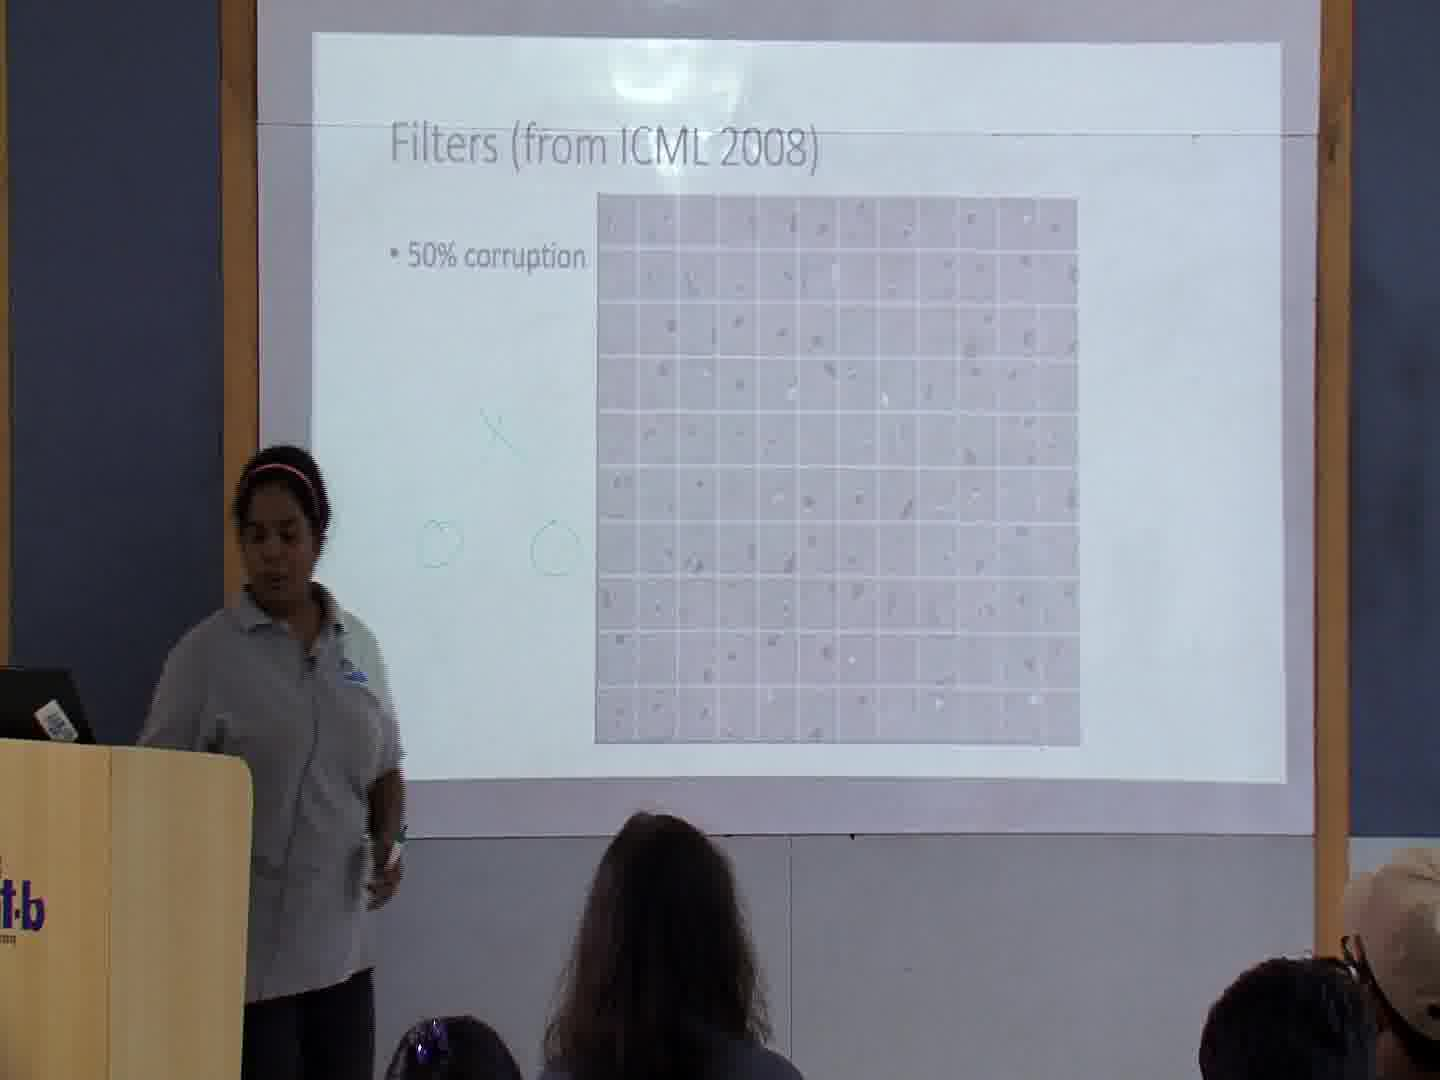slide: (310, 34, 1288, 785)
